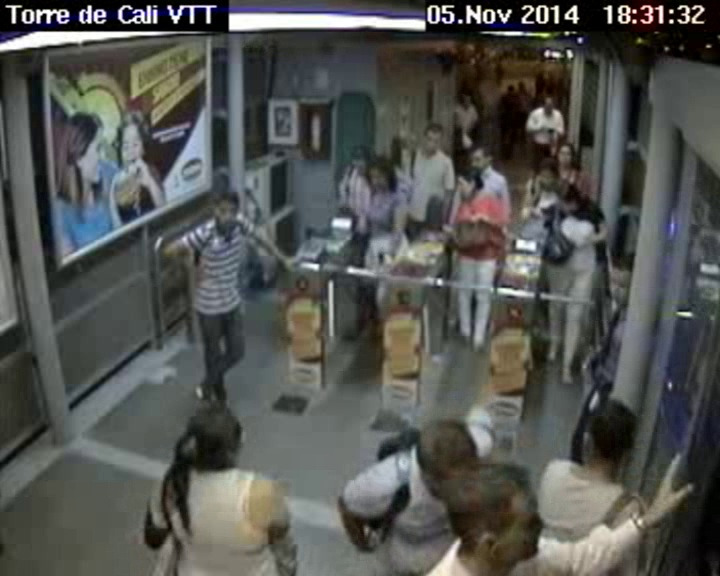person: (432, 455, 553, 571), (169, 396, 255, 475), (567, 389, 644, 476), (405, 415, 485, 495), (601, 247, 639, 313), (341, 145, 382, 181), (212, 187, 241, 231), (555, 177, 584, 219), (369, 155, 395, 200), (450, 166, 490, 195), (533, 154, 561, 190), (421, 122, 446, 160), (464, 142, 496, 169), (553, 135, 575, 169), (540, 93, 558, 116), (458, 87, 473, 107)
